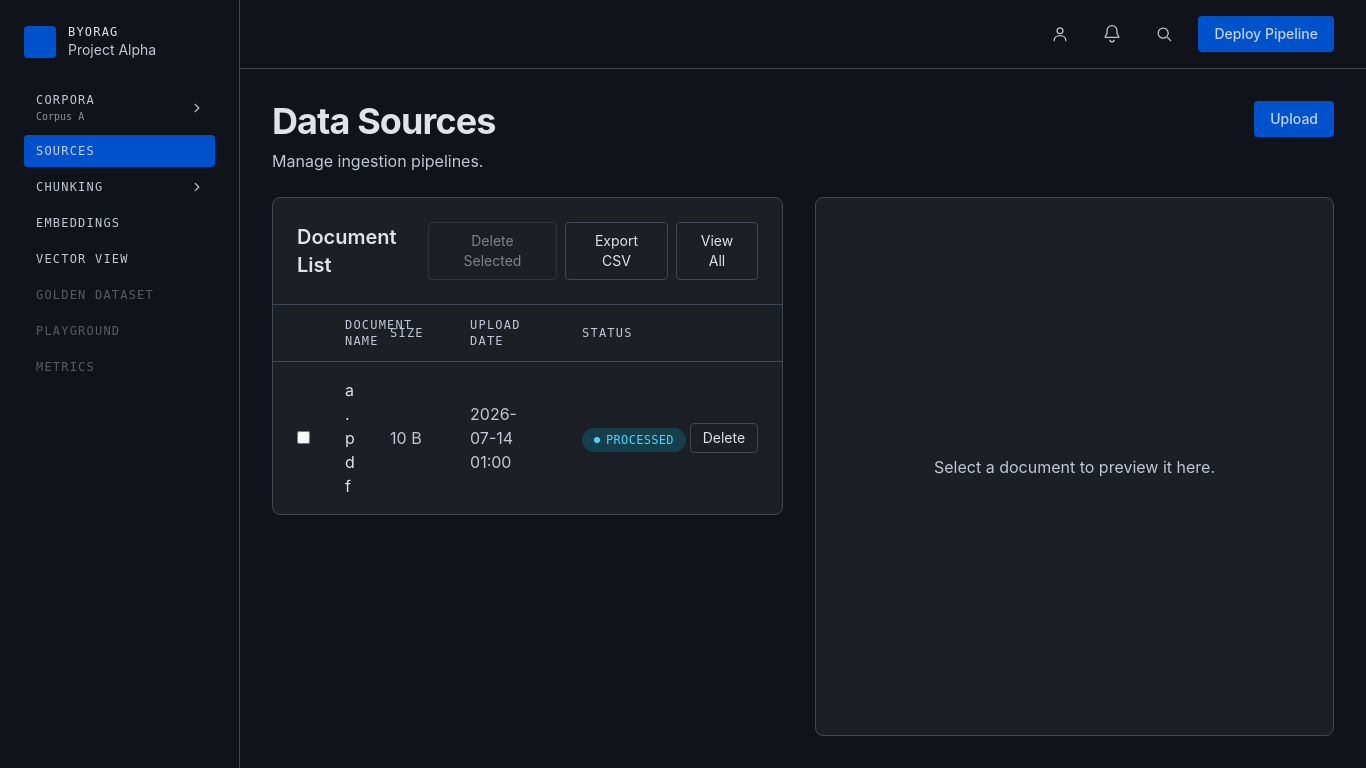
Cross-section scoping from the Corpora screen (009-corpora-screen US2) › switching the active corpus from the Corpora screen immediately updates the Chunking document picker
Click the text "CORPORA".
click(66, 100)  # box [36, 92, 95, 108]
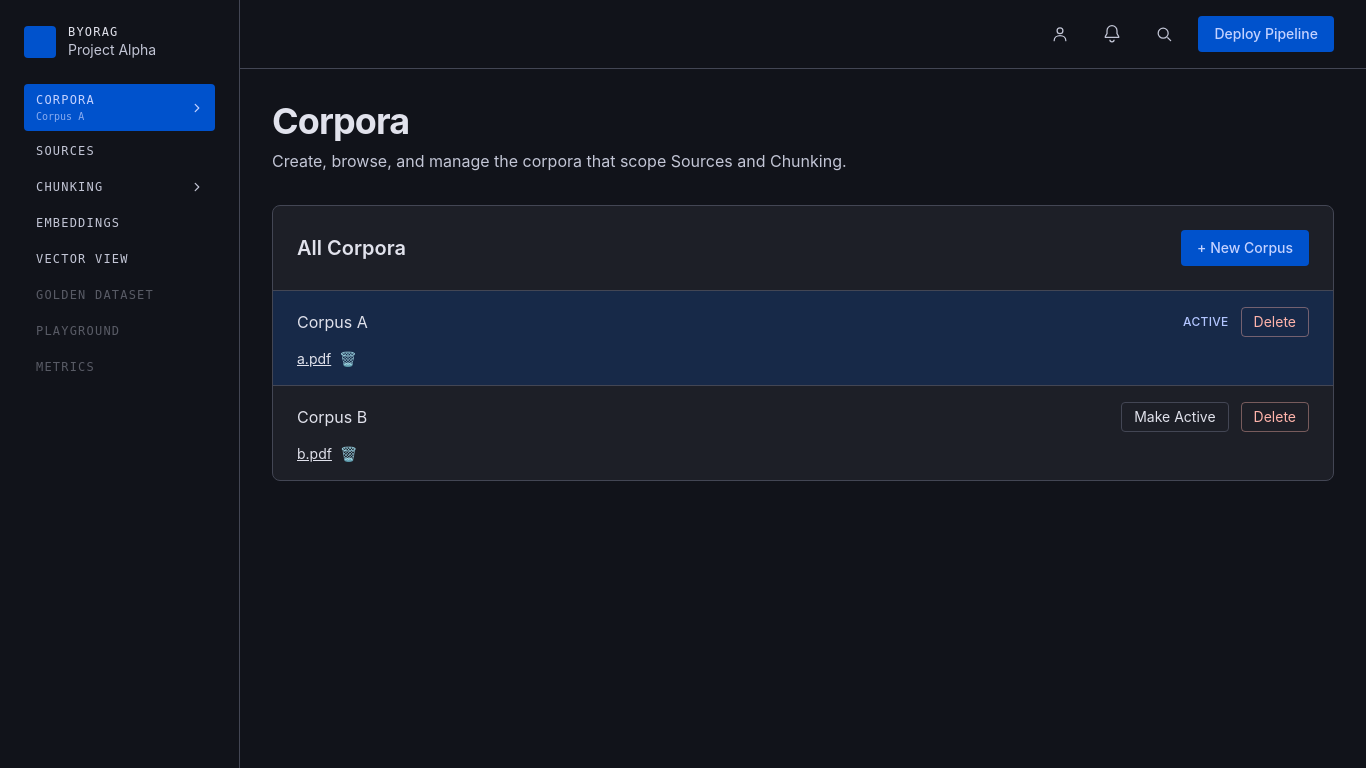
Expected: the list item with test id "corpus-row-corpus-b" is shown, [273, 386, 1333, 480]
Click the button with aria-label "make corpus b active".
click(1175, 417)  # box [1121, 402, 1229, 432]
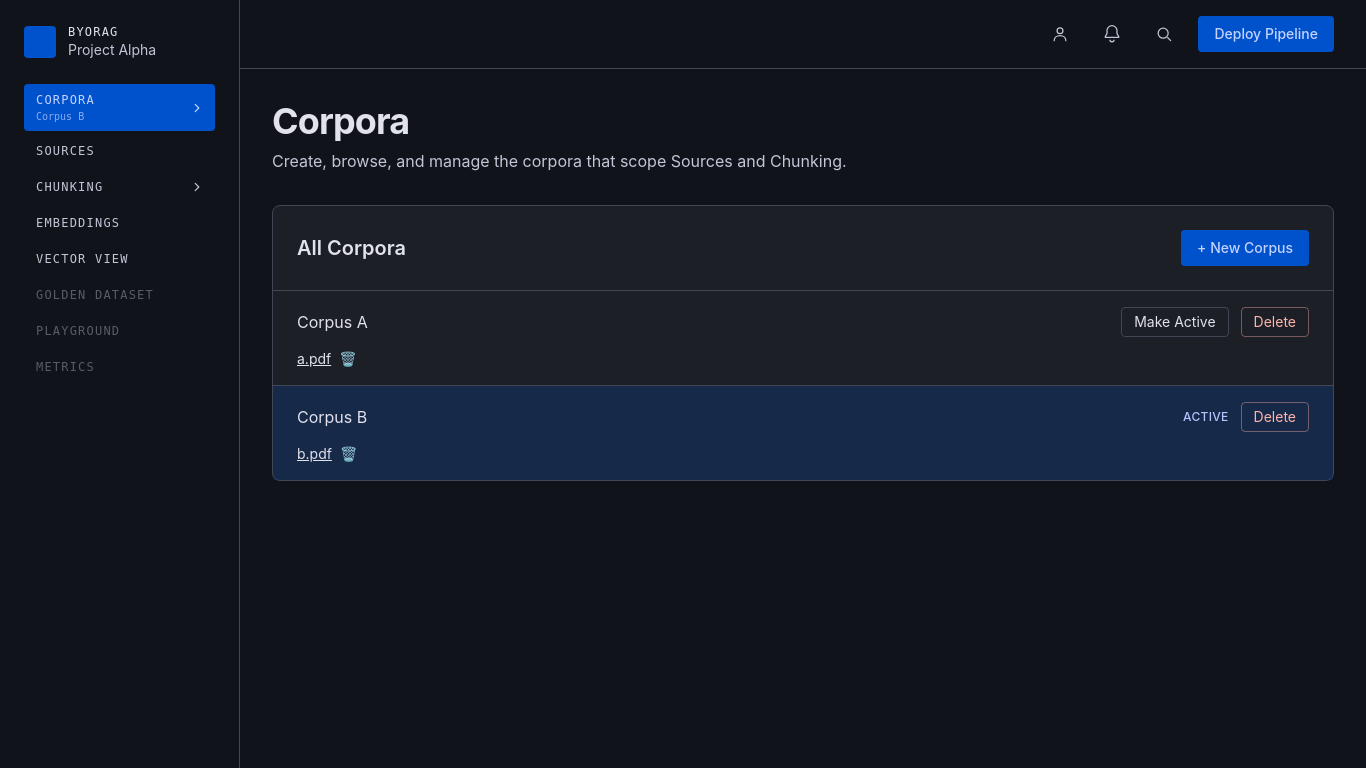
Click the link "CHUNKING".
click(70, 187)  # box [36, 180, 203, 194]
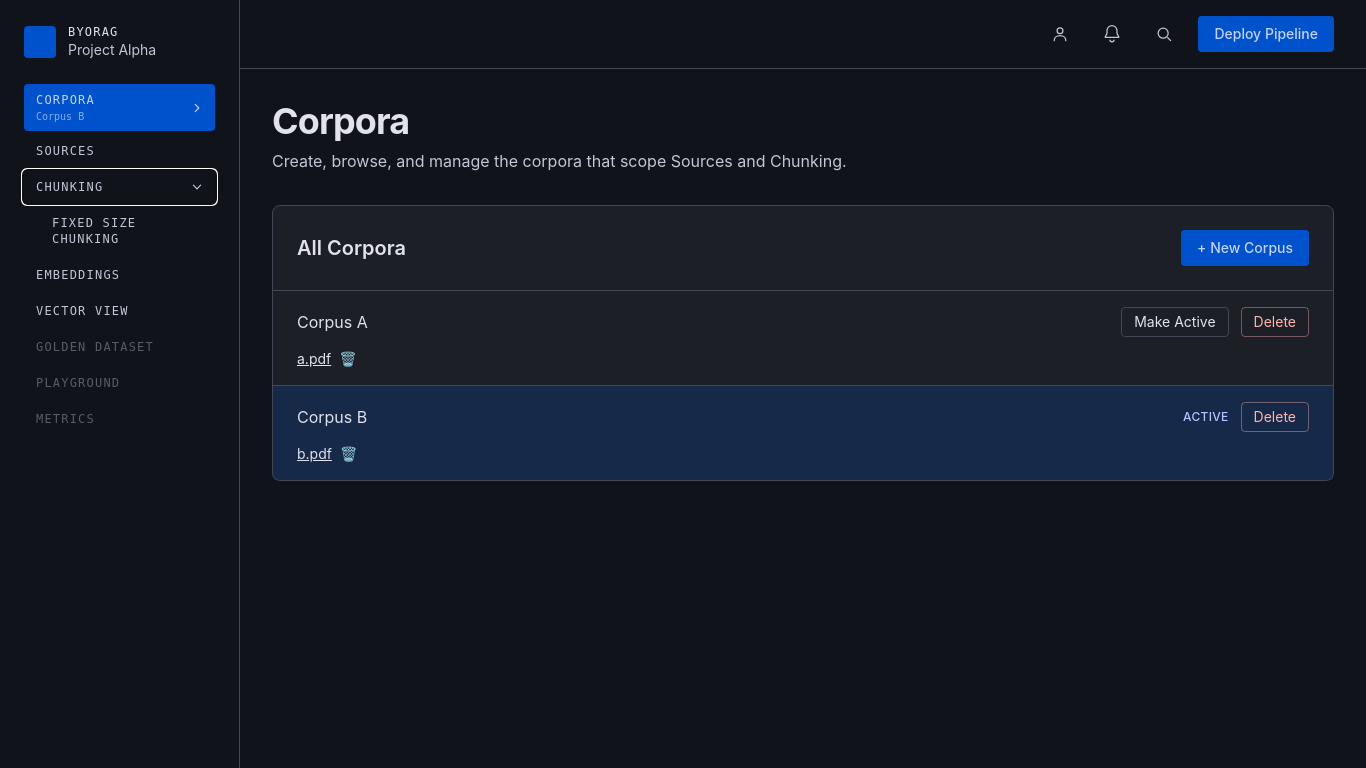
Click the link "FIXED SIZE CHUNKING".
click(94, 231)  # box [52, 216, 136, 246]
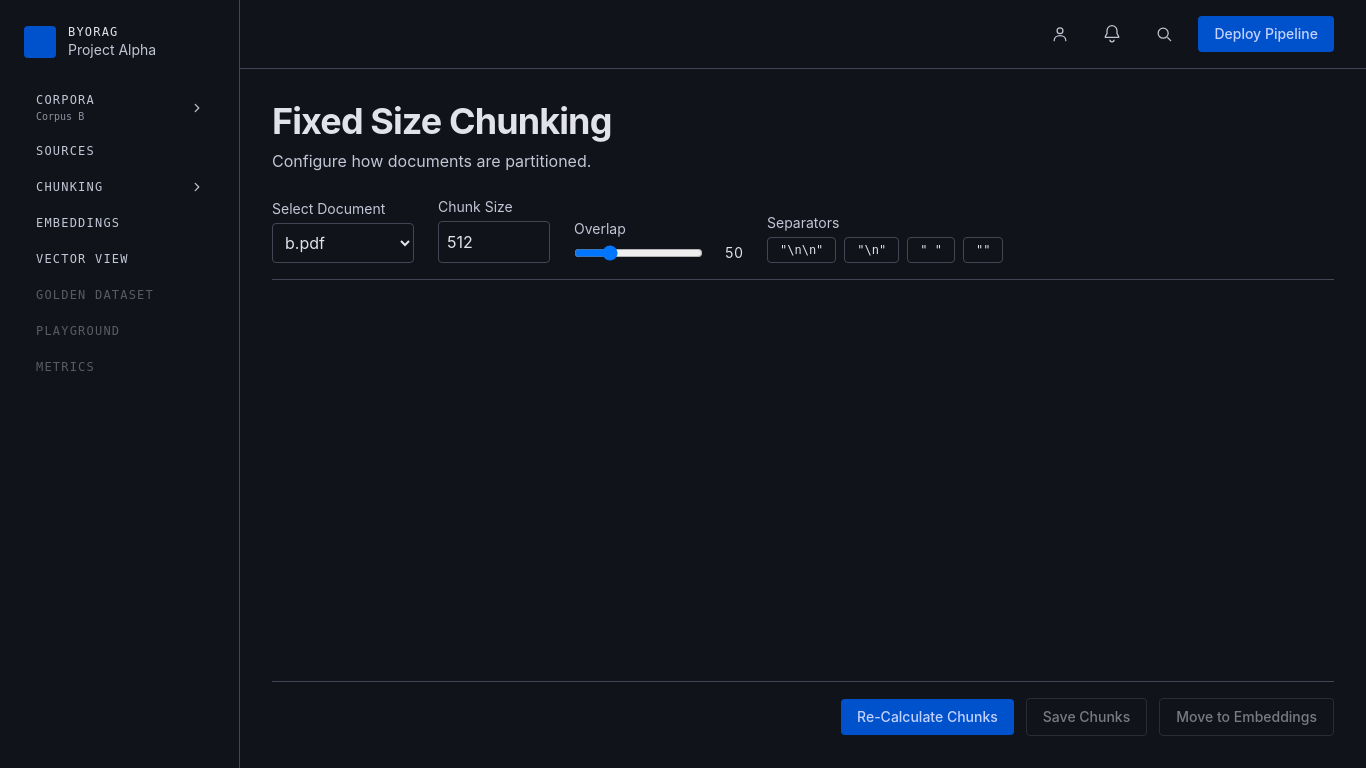
Expected: the dropdown labelled "Select Document" no longer shows "a.pdf", [272, 223, 414, 263]
